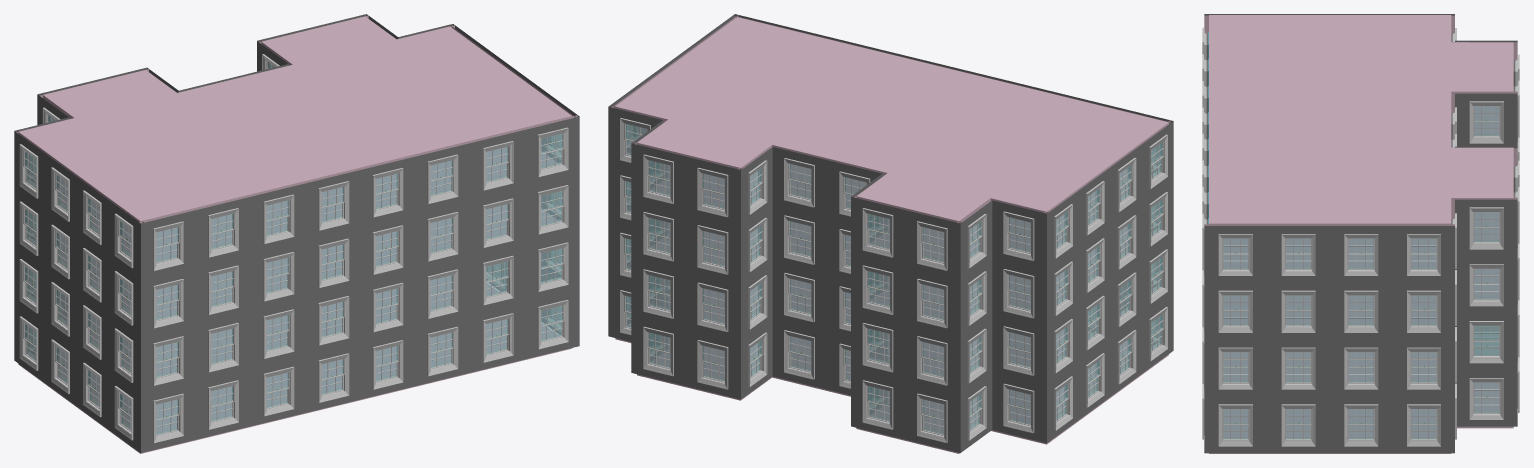
File: vhouse 3.fbx
The picture shows the model from 3 angles, left to right: view 1: azimuth 30°, elevation 25°; view 2: azimuth 150°, elevation 25°; view 3: azimuth 270°, elevation 25°; orthographic projection.
Visible parts, largest first — view 1: Cube.000, Cube.002; view 2: Cube.000, Cube.002; view 3: Cube.000, Cube.002.
Boxes of the visible parts, bbox=[...] form: Cube.000: bbox=[14, 14, 579, 452]; Cube.002: bbox=[18, 16, 572, 453]; Cube.000: bbox=[608, 14, 1173, 452]; Cube.002: bbox=[615, 17, 1168, 453]; Cube.000: bbox=[1202, 14, 1519, 453]; Cube.002: bbox=[1209, 15, 1513, 453].
Bounding box in the file's own units: 16.13 × 8.11 × 10.13.
